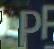Parking: (15, 7, 44, 48)
